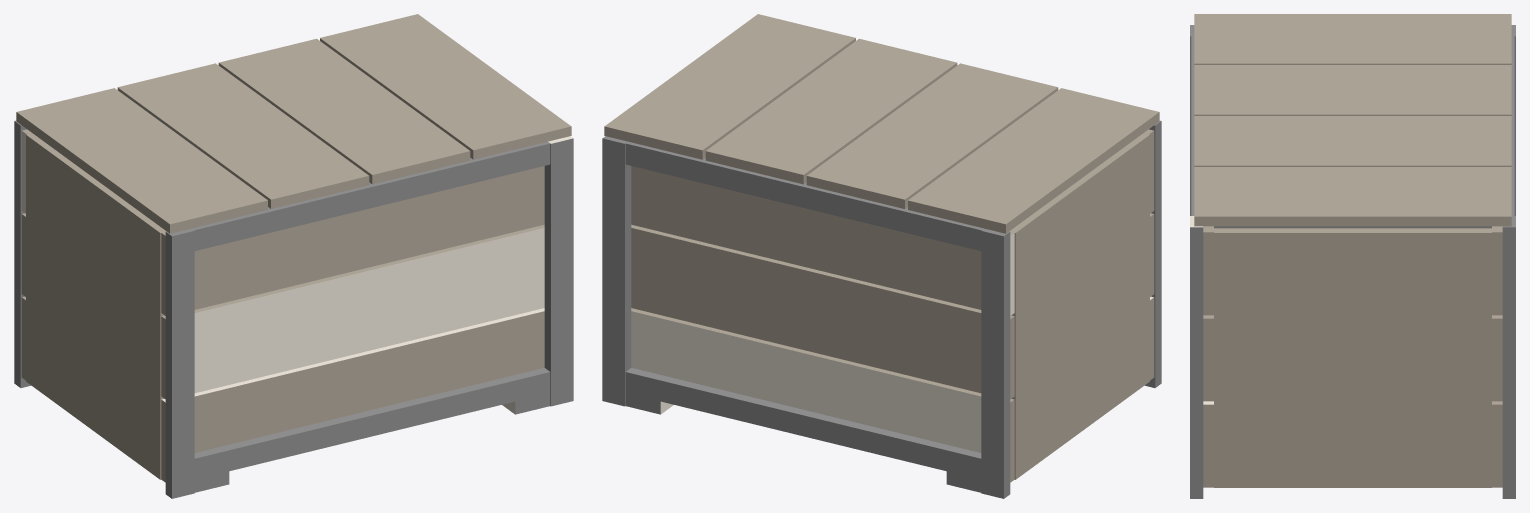
The model's file is crate_closed.glb.
3 views of the same model, side by side, from view 1: azimuth 30°, elevation 25°; view 2: azimuth 150°, elevation 25°; view 3: azimuth 270°, elevation 25° (orthographic). The views are drawn at different scales.
Visible parts, largest first — view 1: crate; view 2: crate; view 3: crate.
Boxes of the visible parts, x1,y1,x2,y2 form: crate: [14, 14, 573, 498]; crate: [602, 14, 1161, 498]; crate: [1190, 14, 1515, 498].
Bounding box in the file's own units: 0.8 × 0.52 × 0.544.
